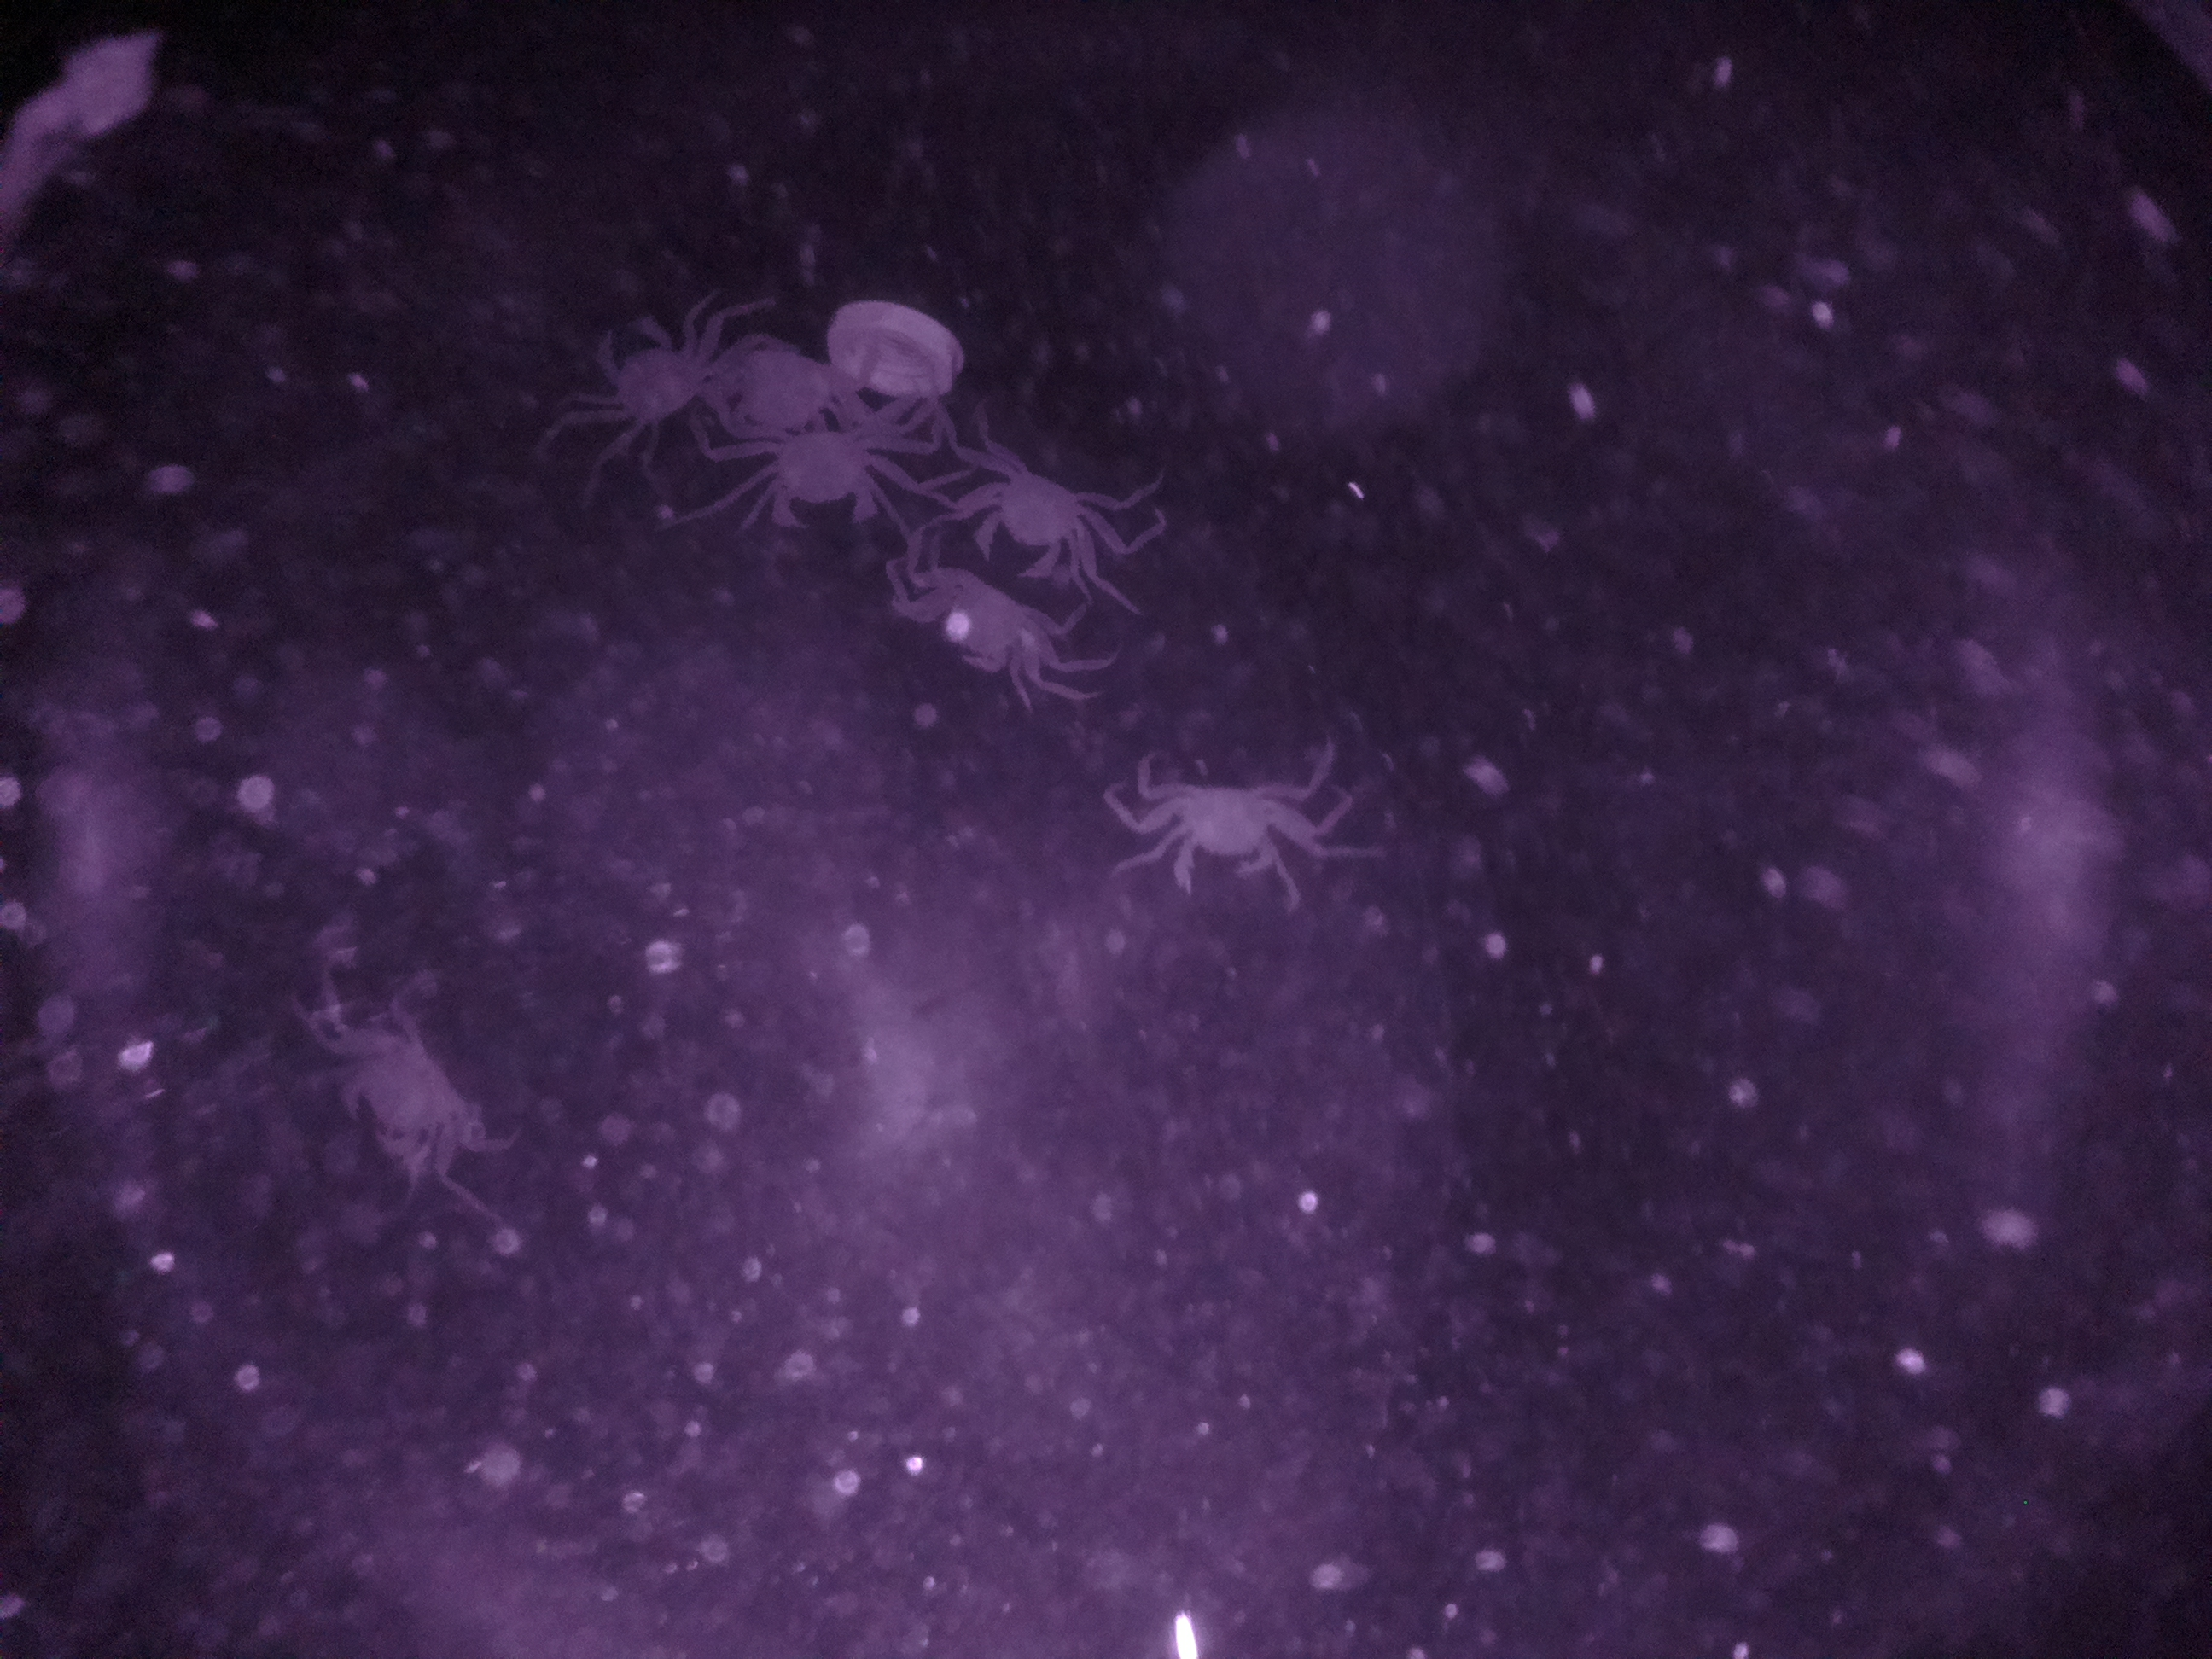Crab: (1125, 739, 1336, 920), (953, 439, 1144, 586), (737, 413, 899, 551)
